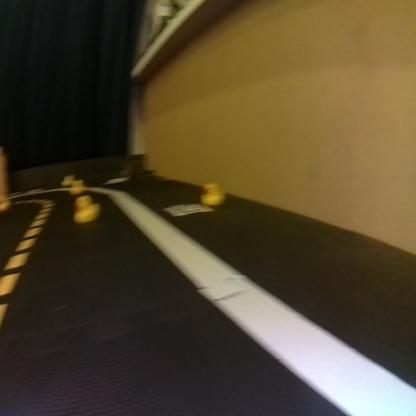duckie: (62, 191, 112, 235), (195, 171, 228, 209)
